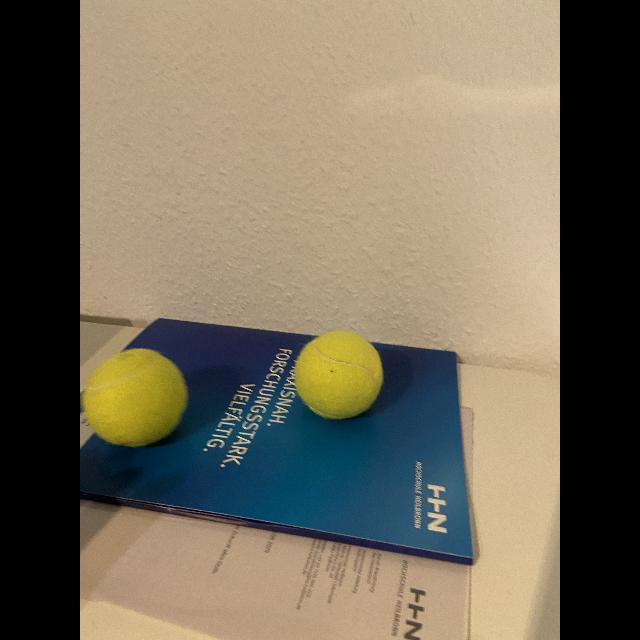Tennisball: (81, 349, 188, 447), (295, 331, 383, 419)
